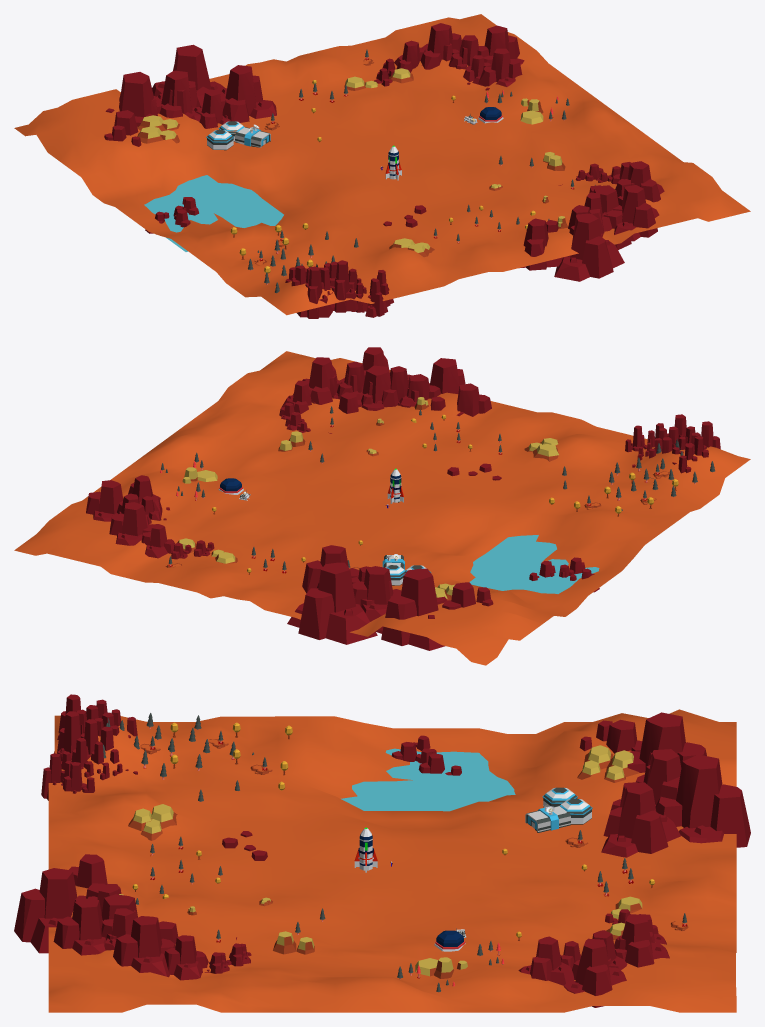
The model's file is worldOrange.glb.
3 renders of one model, top to bottom at view 1: azimuth 30°, elevation 25°; view 2: azimuth 150°, elevation 25°; view 3: azimuth 270°, elevation 25°, orthographic. The views are drawn at different scales.
Visible parts, largest first — view 1: Plane, rock-b.003, rock-b.001, rock-b.002, rock-b.006, rock-b.004, gate.002, rock-b.005; view 2: Plane, rock-b.003, rock-b.001, rock-b.006, rock-b.002, rock-b.004, rock-b.005, grass-large.010, gate.002; view 3: Plane, rock-b.003, rock-b.006, rock-b.001, rock-b.002, rock-b.004, gate.002, rock-b.005, grass-large.010, rock-b.008, rocket_baseA, hangar_roundGlass.001.
Boxes of the visible parts, left/top/right/bottom form: Plane: left=14, top=14, right=750, bottom=315; rock-b.003: left=104, top=44, right=276, bottom=146; rock-b.001: left=374, top=23, right=524, bottom=90; rock-b.002: left=519, top=184, right=631, bottom=281; rock-b.006: left=575, top=161, right=664, bottom=241; rock-b.004: left=291, top=260, right=393, bottom=318; gate.002: left=206, top=121, right=270, bottom=150; rock-b.005: left=145, top=197, right=198, bottom=233; Plane: left=14, top=351, right=750, bottom=665; rock-b.003: left=287, top=545, right=493, bottom=650; rock-b.001: left=86, top=475, right=214, bottom=559; rock-b.006: left=279, top=347, right=416, bottom=432; rock-b.002: left=328, top=358, right=491, bottom=433; rock-b.004: left=625, top=414, right=720, bottom=461; rock-b.005: left=529, top=557, right=599, bottom=592; grass-large.010: left=609, top=439, right=715, bottom=500; gate.002: left=382, top=554, right=431, bottom=585; Plane: left=48, top=709, right=736, bottom=1012; rock-b.003: left=579, top=712, right=750, bottom=857; rock-b.006: left=53, top=885, right=251, bottom=980; rock-b.001: left=518, top=909, right=669, bottom=1007; rock-b.002: left=14, top=854, right=236, bottom=953; rock-b.004: left=41, top=694, right=128, bottom=800; gate.002: left=525, top=787, right=592, bottom=832; rock-b.005: left=391, top=735, right=461, bottom=775; grass-large.010: left=103, top=709, right=235, bottom=779; rock-b.008: left=100, top=712, right=137, bottom=774; rocket_baseA: left=354, top=827, right=377, bottom=872; hangar_roundGlass.001: left=434, top=930, right=465, bottom=951.
Size of the model in its own units: 308 by 42.47 by 330.
